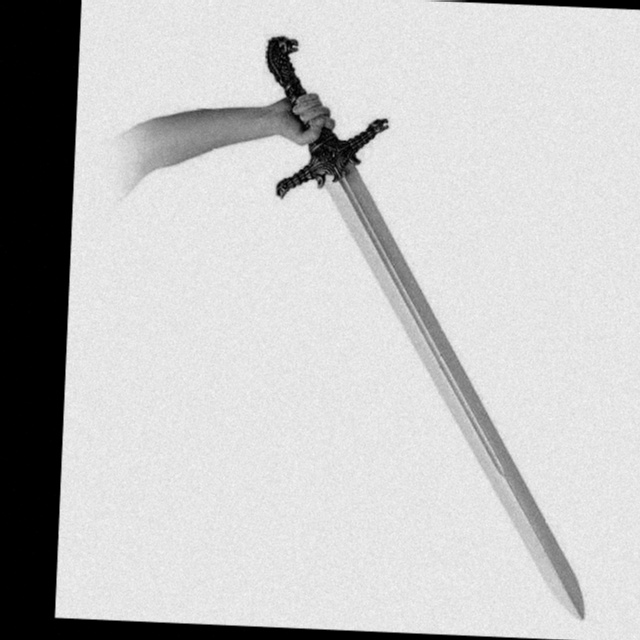Sharp-Object: (217, 21, 637, 634)
